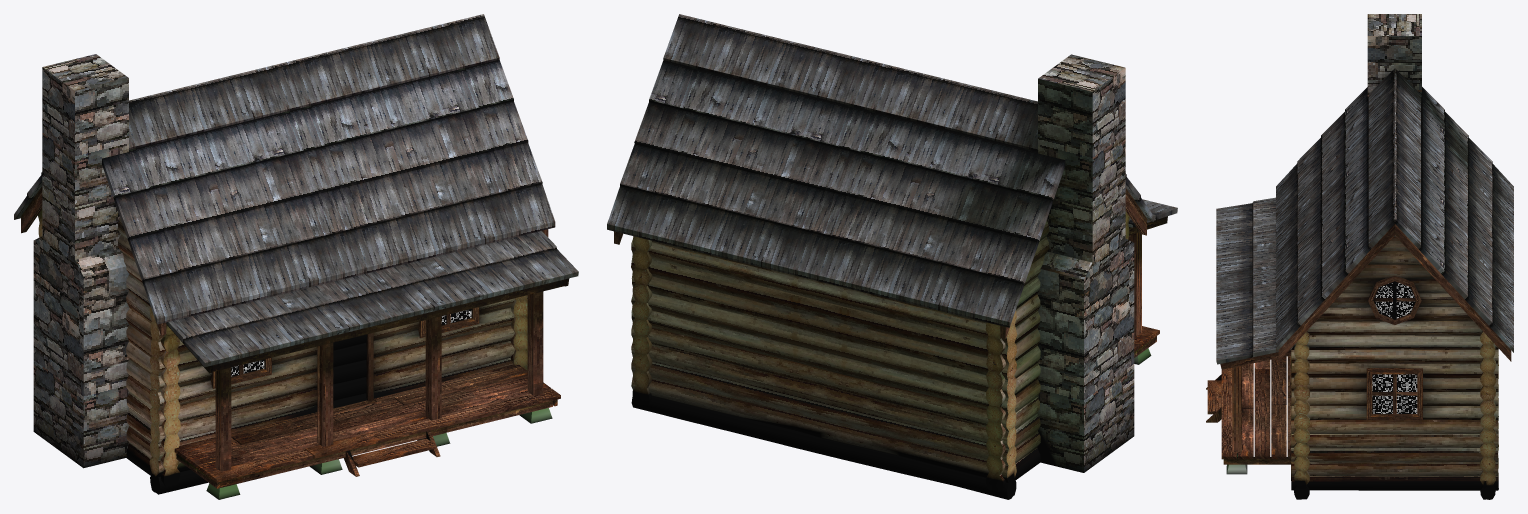
File: house.glb
The picture shows the model from 3 angles, left to right: view 1: azimuth 30°, elevation 25°; view 2: azimuth 150°, elevation 25°; view 3: azimuth 270°, elevation 25°; orthographic projection. The views are drawn at different scales.
Visible parts, largest first — view 1: walls; view 2: walls; view 3: walls.
Boxes of the visible parts, x1,y1,x2,y2 form: walls: (14, 14, 578, 499); walls: (607, 14, 1177, 499); walls: (1206, 14, 1513, 499).
Bounding box in the file's own units: 7.9 × 6.8 × 5.95.
7 materials, 6 textured.
